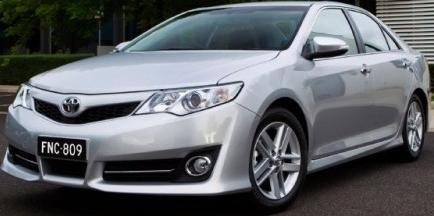front_view: (5, 77, 251, 200)
headlight: (124, 84, 245, 116)
side_glass: (292, 3, 399, 60)
